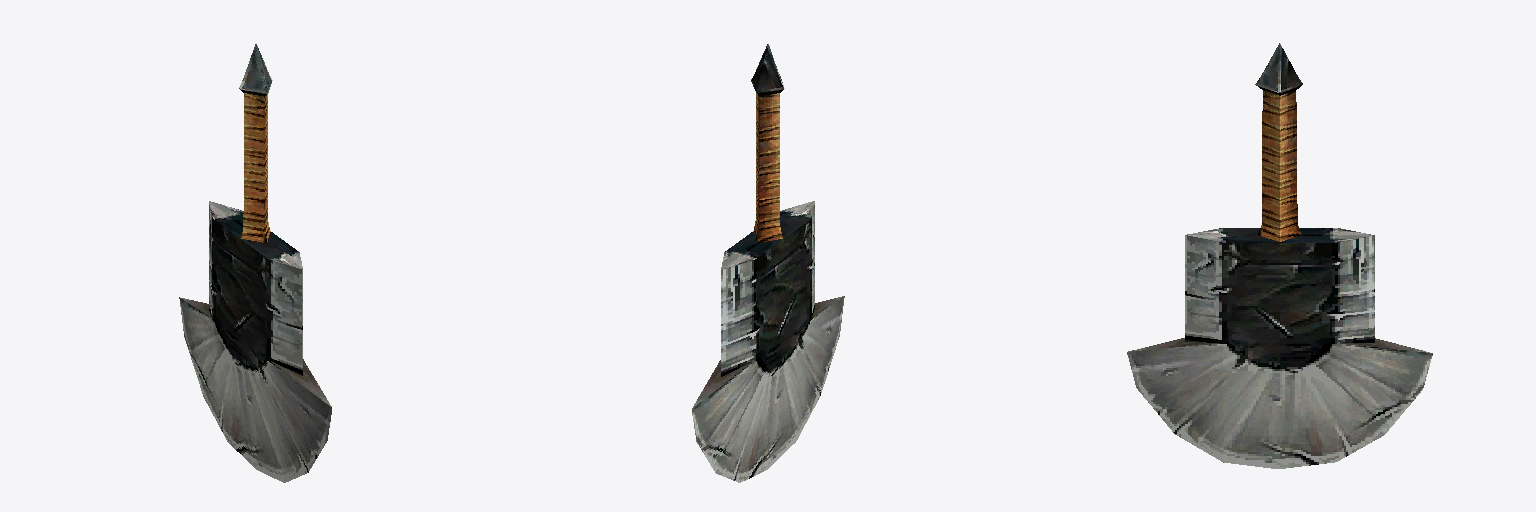
3 views of the same model, side by side, from view 1: azimuth 30°, elevation 25°; view 2: azimuth 150°, elevation 25°; view 3: azimuth 270°, elevation 25° (orthographic).
Visible parts, largest first — view 1: 000_OrcAxe; view 2: 000_OrcAxe; view 3: 000_OrcAxe.
Boxes of the visible parts, x1=… form: 000_OrcAxe: x1=179, y1=44, x2=331, y2=482; 000_OrcAxe: x1=692, y1=44, x2=844, y2=482; 000_OrcAxe: x1=1127, y1=43, x2=1432, y2=468.
Size of the model in its own units: 7.38 by 88.62 by 57.64.
1 materials, 1 textured.